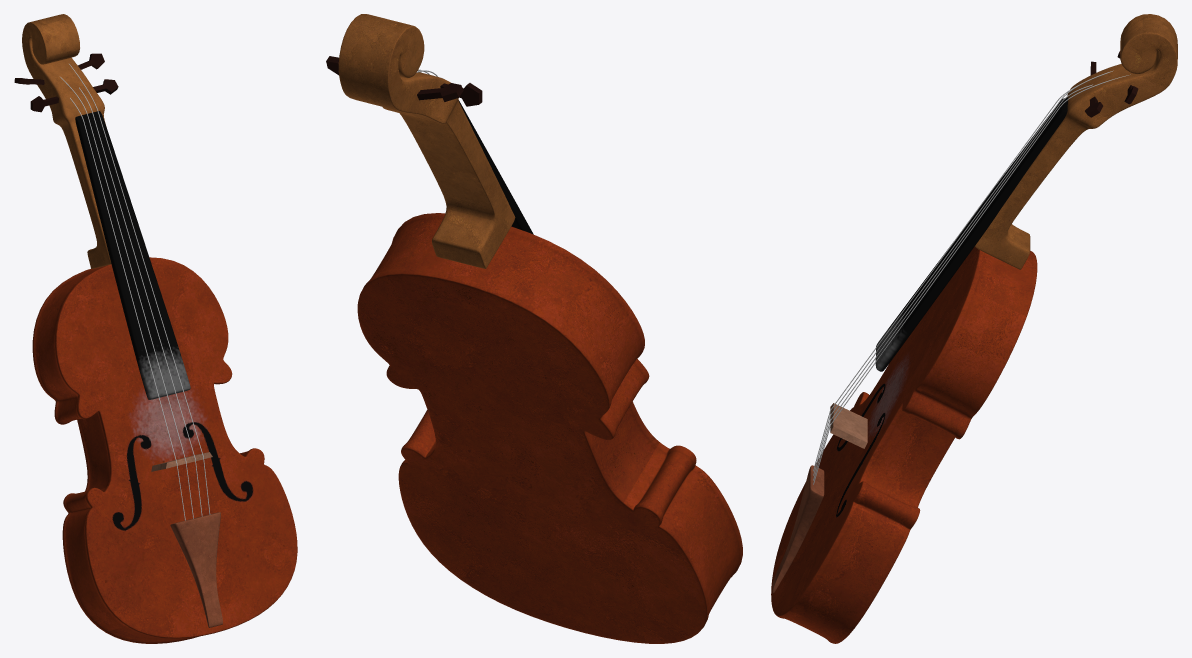
Rendered from hegedu.glb.
The picture shows the model from 3 angles, left to right: view 1: azimuth 30°, elevation 25°; view 2: azimuth 150°, elevation 25°; view 3: azimuth 270°, elevation 25°; orthographic projection. The views are drawn at different scales.
Parts seen in each view (by area): view 1: hegedu; view 2: hegedu; view 3: hegedu.
Boxes of the visible parts, x1=… form: hegedu: x1=14, y1=14, x2=297, y2=643; hegedu: x1=326, y1=14, x2=742, y2=643; hegedu: x1=771, y1=14, x2=1177, y2=643.
Size of the model in its own units: 0.2043 by 0.5 by 0.3078.
Materials: 7 (6 with a texture image).
